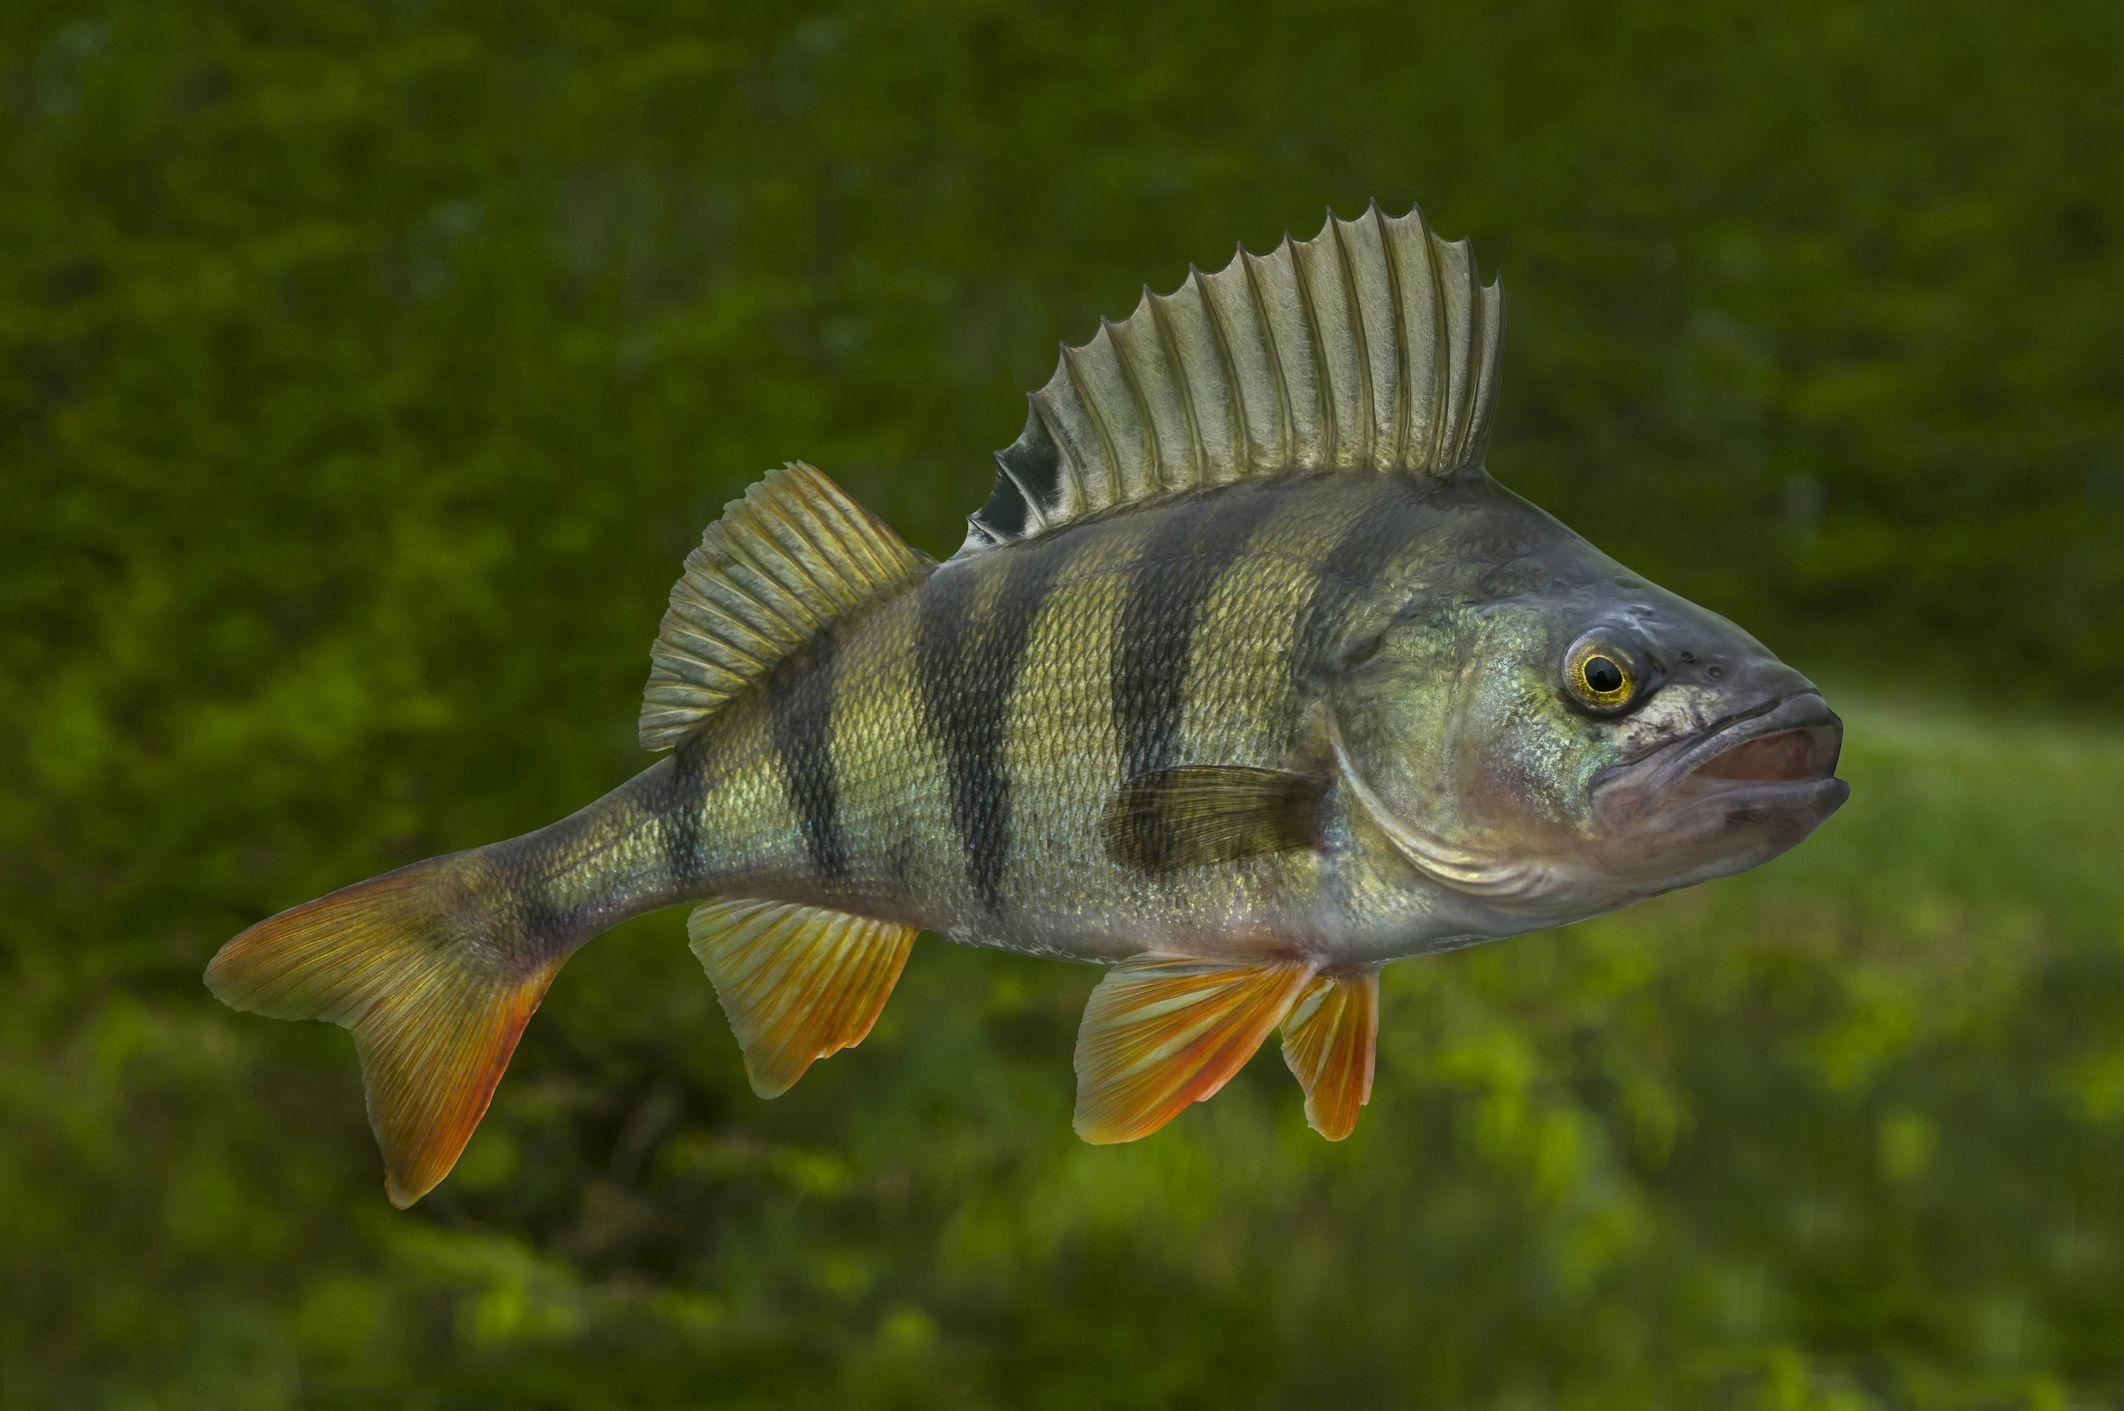Perch: (211, 209, 1850, 1206)
